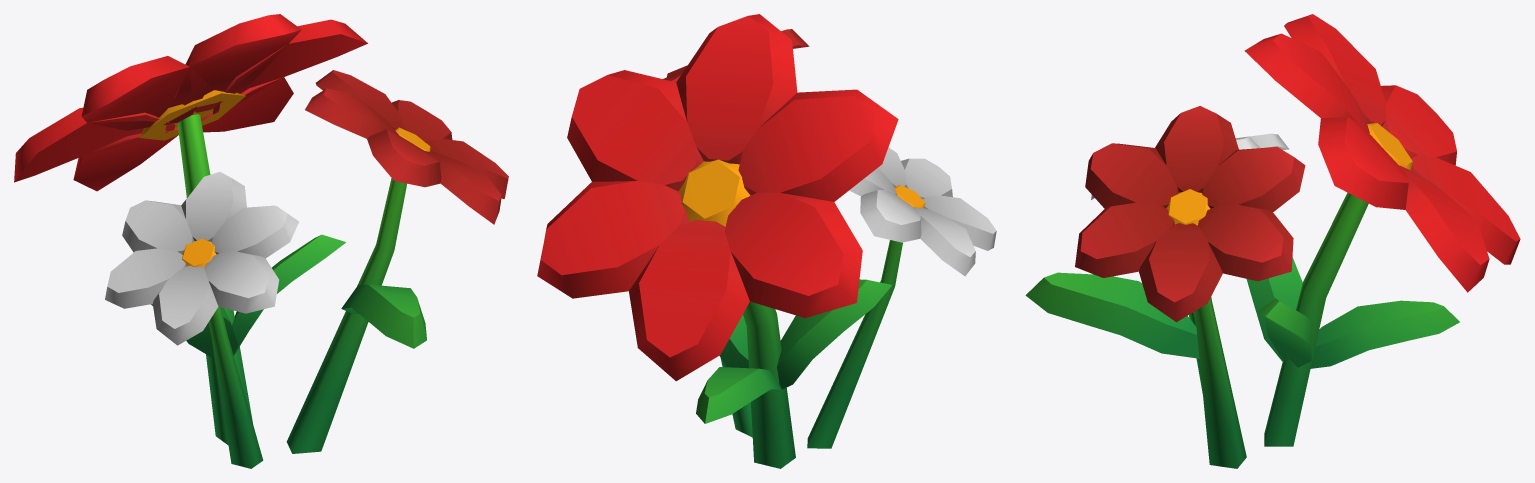
The model's file is Flowers_1_D.glb.
The picture shows the model from 3 angles, left to right: view 1: azimuth 30°, elevation 25°; view 2: azimuth 150°, elevation 25°; view 3: azimuth 270°, elevation 25°; orthographic projection. The views are drawn at different scales.
Visible parts, largest first — view 1: Flowers_1_D; view 2: Flowers_1_D; view 3: Flowers_1_D.
Boxes of the visible parts, bbox=[...] form: Flowers_1_D: bbox=[14, 14, 508, 468]; Flowers_1_D: bbox=[537, 14, 996, 468]; Flowers_1_D: bbox=[1025, 14, 1520, 468].
Bounding box in the file's own units: 0.3976 × 0.4195 × 0.4541.
1 material, 1 textured.
